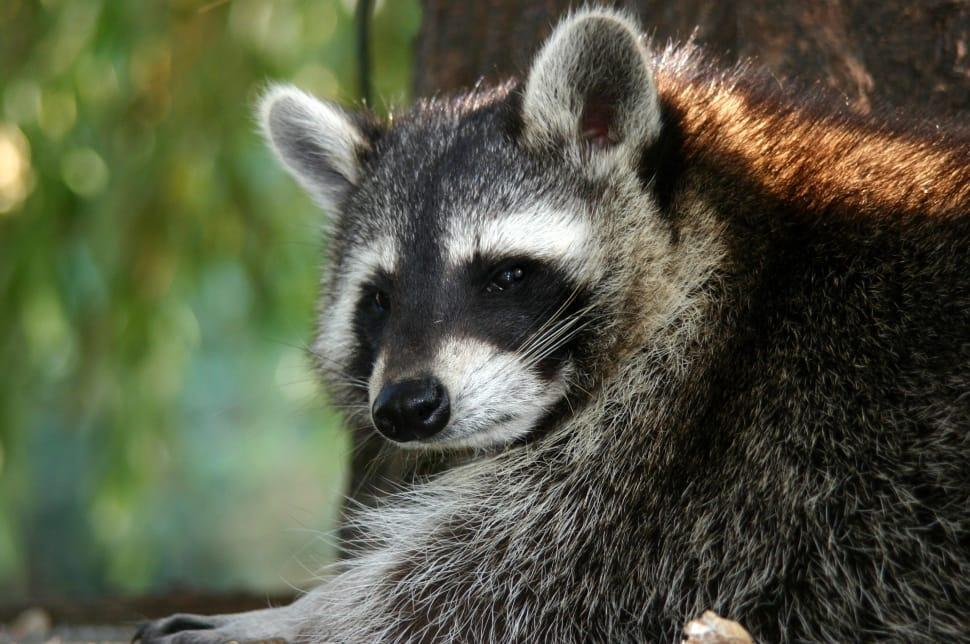raccoon: (132, 3, 970, 644)
